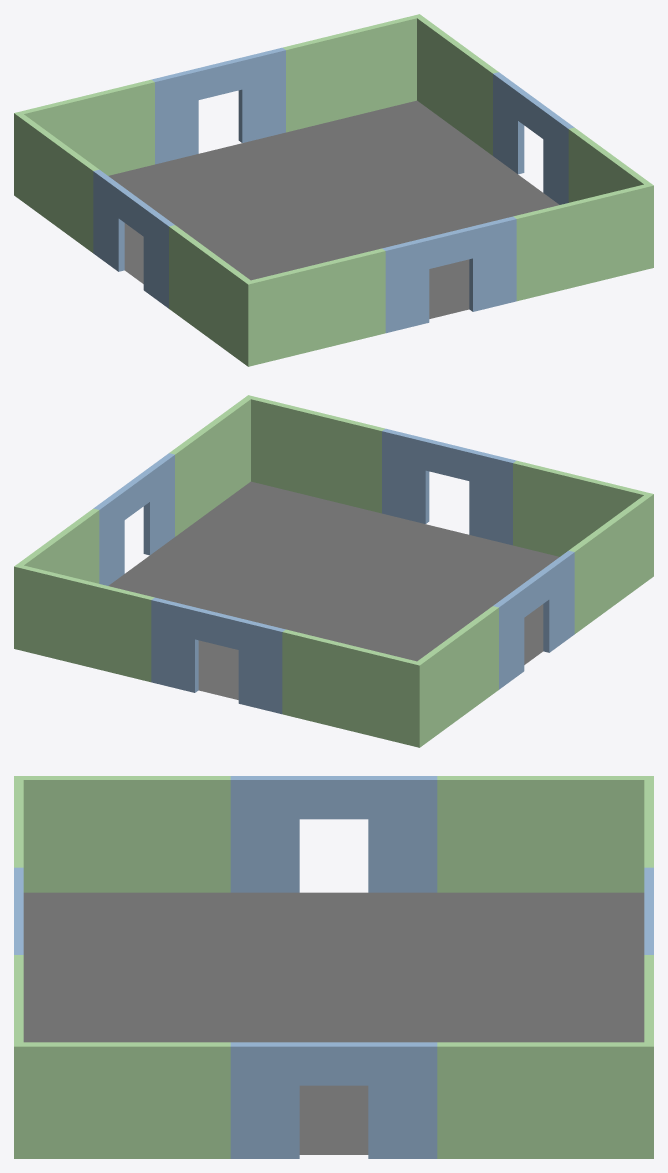
File: SML and H Rooms 2 _Large_Room.fbx
3 renders of one model, top to bottom at view 1: azimuth 30°, elevation 25°; view 2: azimuth 150°, elevation 25°; view 3: azimuth 270°, elevation 25°, orthographic. The views are drawn at different scales.
Visible parts, largest first — view 1: Floor(15x15).016; view 2: Floor(15x15).016; view 3: Floor(15x15).016.
Part boxes in pixels (left/top/right/bottom): Floor(15x15).016: left=14, top=14, right=653, bottom=366; Floor(15x15).016: left=14, top=395, right=653, bottom=747; Floor(15x15).016: left=14, top=776, right=653, bottom=1158.
Size of the model in its own units: 4641 by 900 by 4641.
